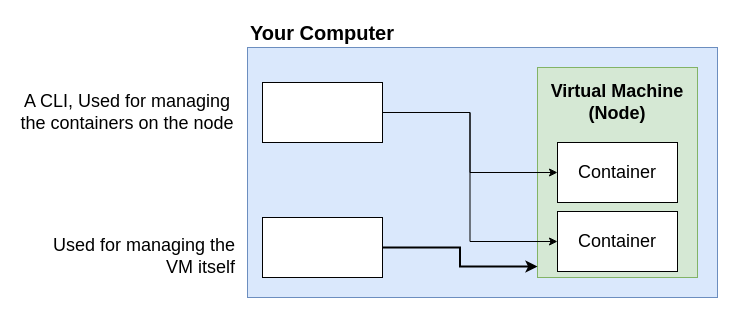
Image size: 735x315. Some labels were removed from this diagram. Here are the shapes that lost their labels. From the top down, the box of each, then its label:
(262, 82, 382, 142): kubectl
(262, 216, 382, 278): minikube
